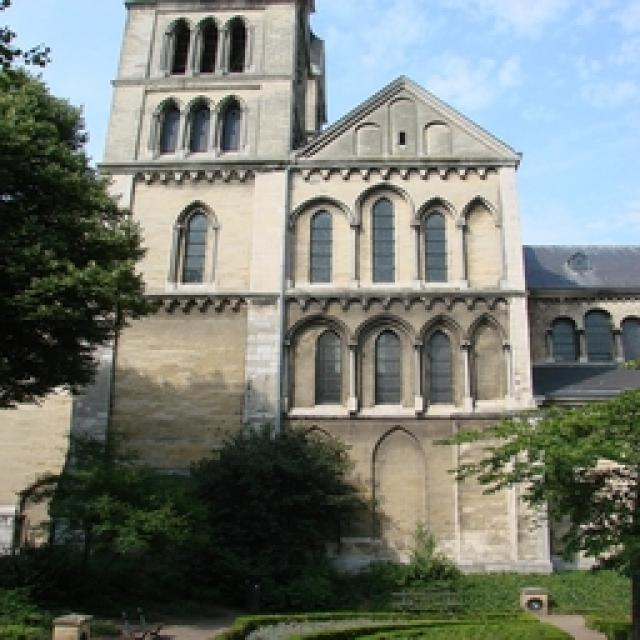Abbey: (158, 4, 517, 582)
